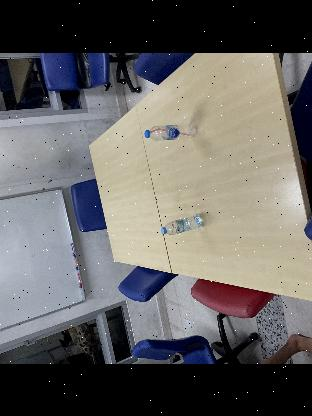Plastic Bottle: (144, 122, 196, 140), (161, 214, 206, 234)
